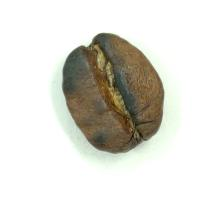NG: (93, 31, 148, 116), (61, 46, 88, 97)
